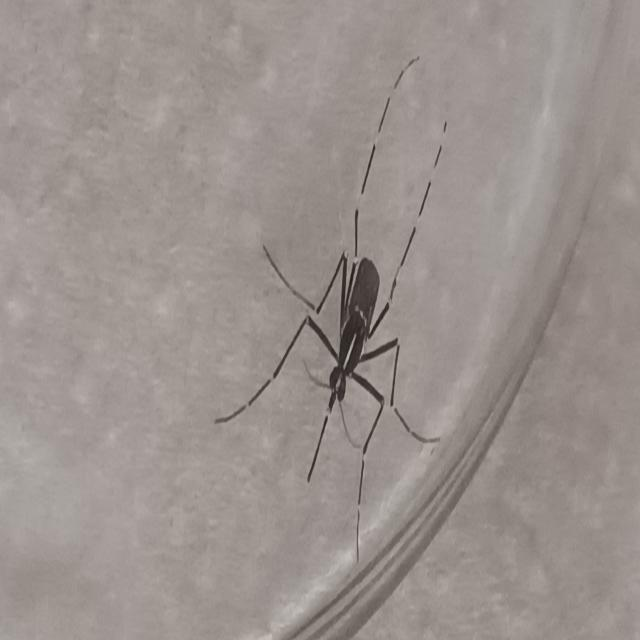albopictus: (229, 23, 460, 574)
